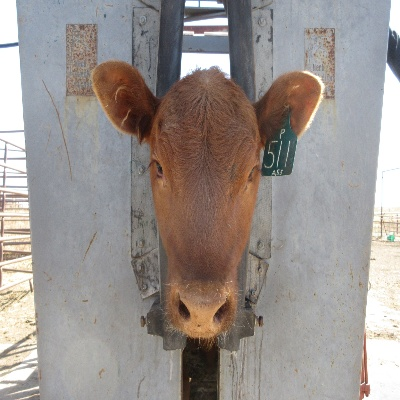fidget_spinner: (171, 277, 230, 339)
